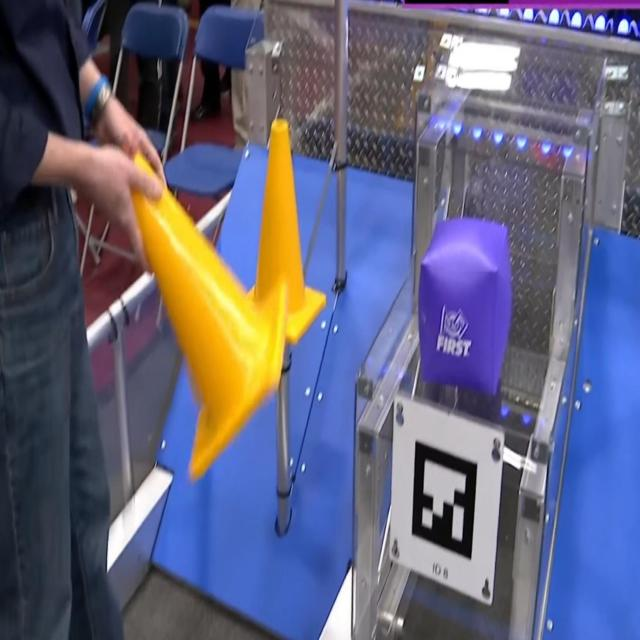frc_cone: (125, 152, 288, 482), (231, 118, 329, 348)
frc_cube: (420, 218, 512, 394)
